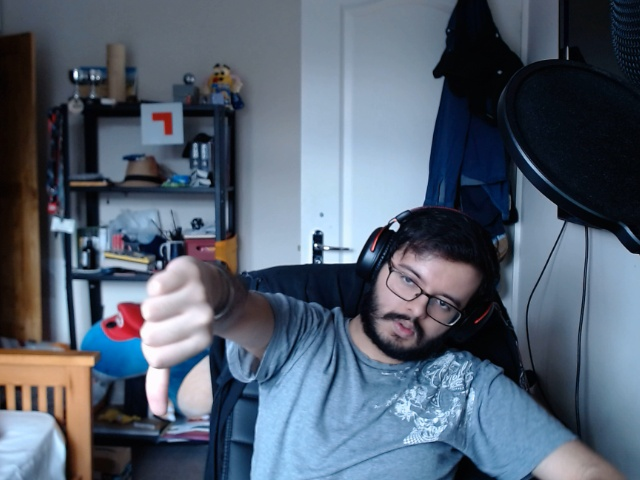Thumbs down: (131, 242, 222, 430)
